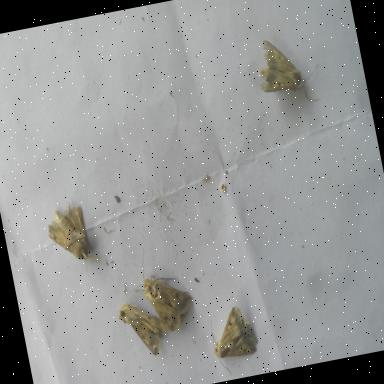abw: (110, 237, 206, 344), (39, 193, 122, 283), (250, 27, 330, 117), (203, 298, 266, 381), (112, 291, 176, 367)
